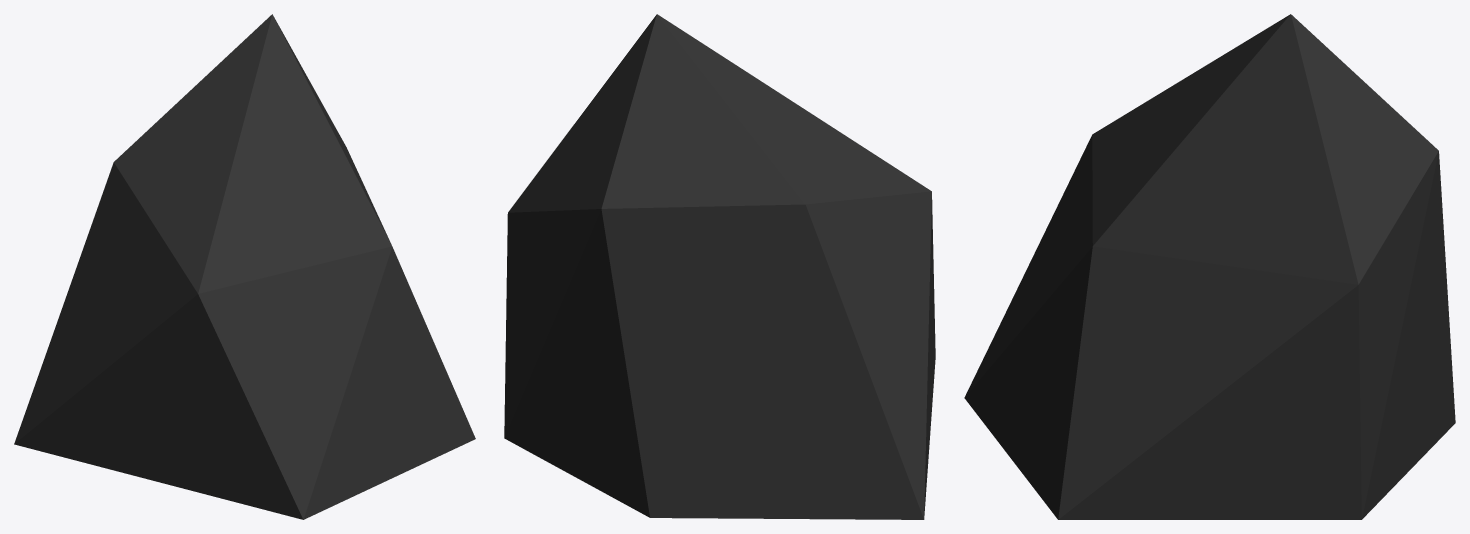
File: RockSmall_3.fbx
The picture shows the model from 3 angles, left to right: view 1: azimuth 30°, elevation 25°; view 2: azimuth 150°, elevation 25°; view 3: azimuth 270°, elevation 25°; orthographic projection. The views are drawn at different scales.
Parts seen in each view (by area): view 1: RockSmall3; view 2: RockSmall3; view 3: RockSmall3.
Part boxes in pixels (bbox=[...]): RockSmall3: bbox=[14, 14, 475, 519]; RockSmall3: bbox=[504, 14, 935, 519]; RockSmall3: bbox=[964, 14, 1455, 519].
Bounding box in the file's own units: 333 × 342 × 342.
